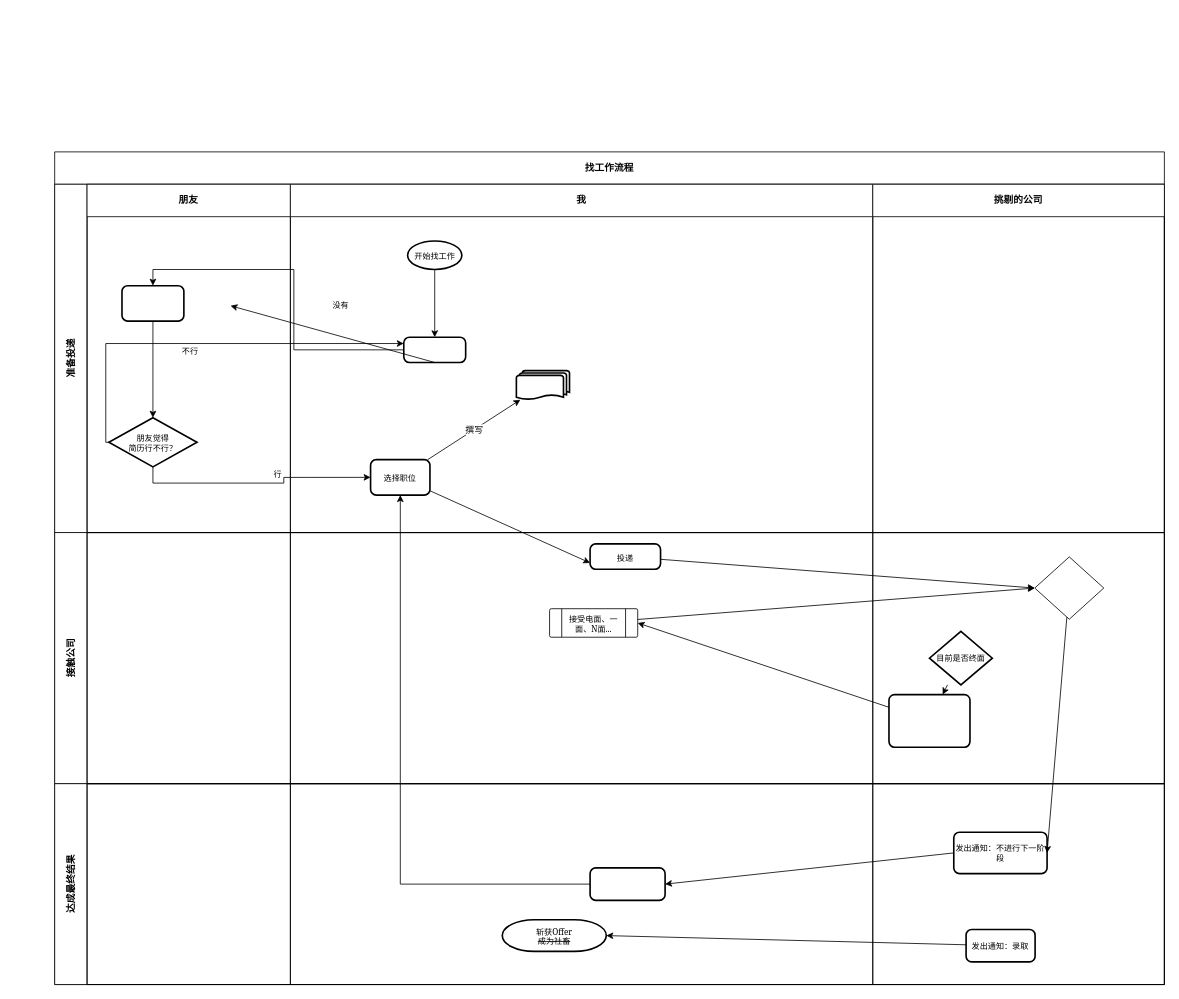
This 1179x999 diagram has some shape labels left out. Here are the shapes that lost their labels. From the top down, the box of each, then its label:
(121, 284, 184, 321): 给朋友审核一下
(403, 336, 466, 363): 准备简历
(515, 369, 570, 400): 失败备忘
(1034, 556, 1104, 619): 通过目前阶段？
(888, 693, 970, 748): 发出通知：进行下一阶段
(589, 867, 665, 901): 检讨失败原因
